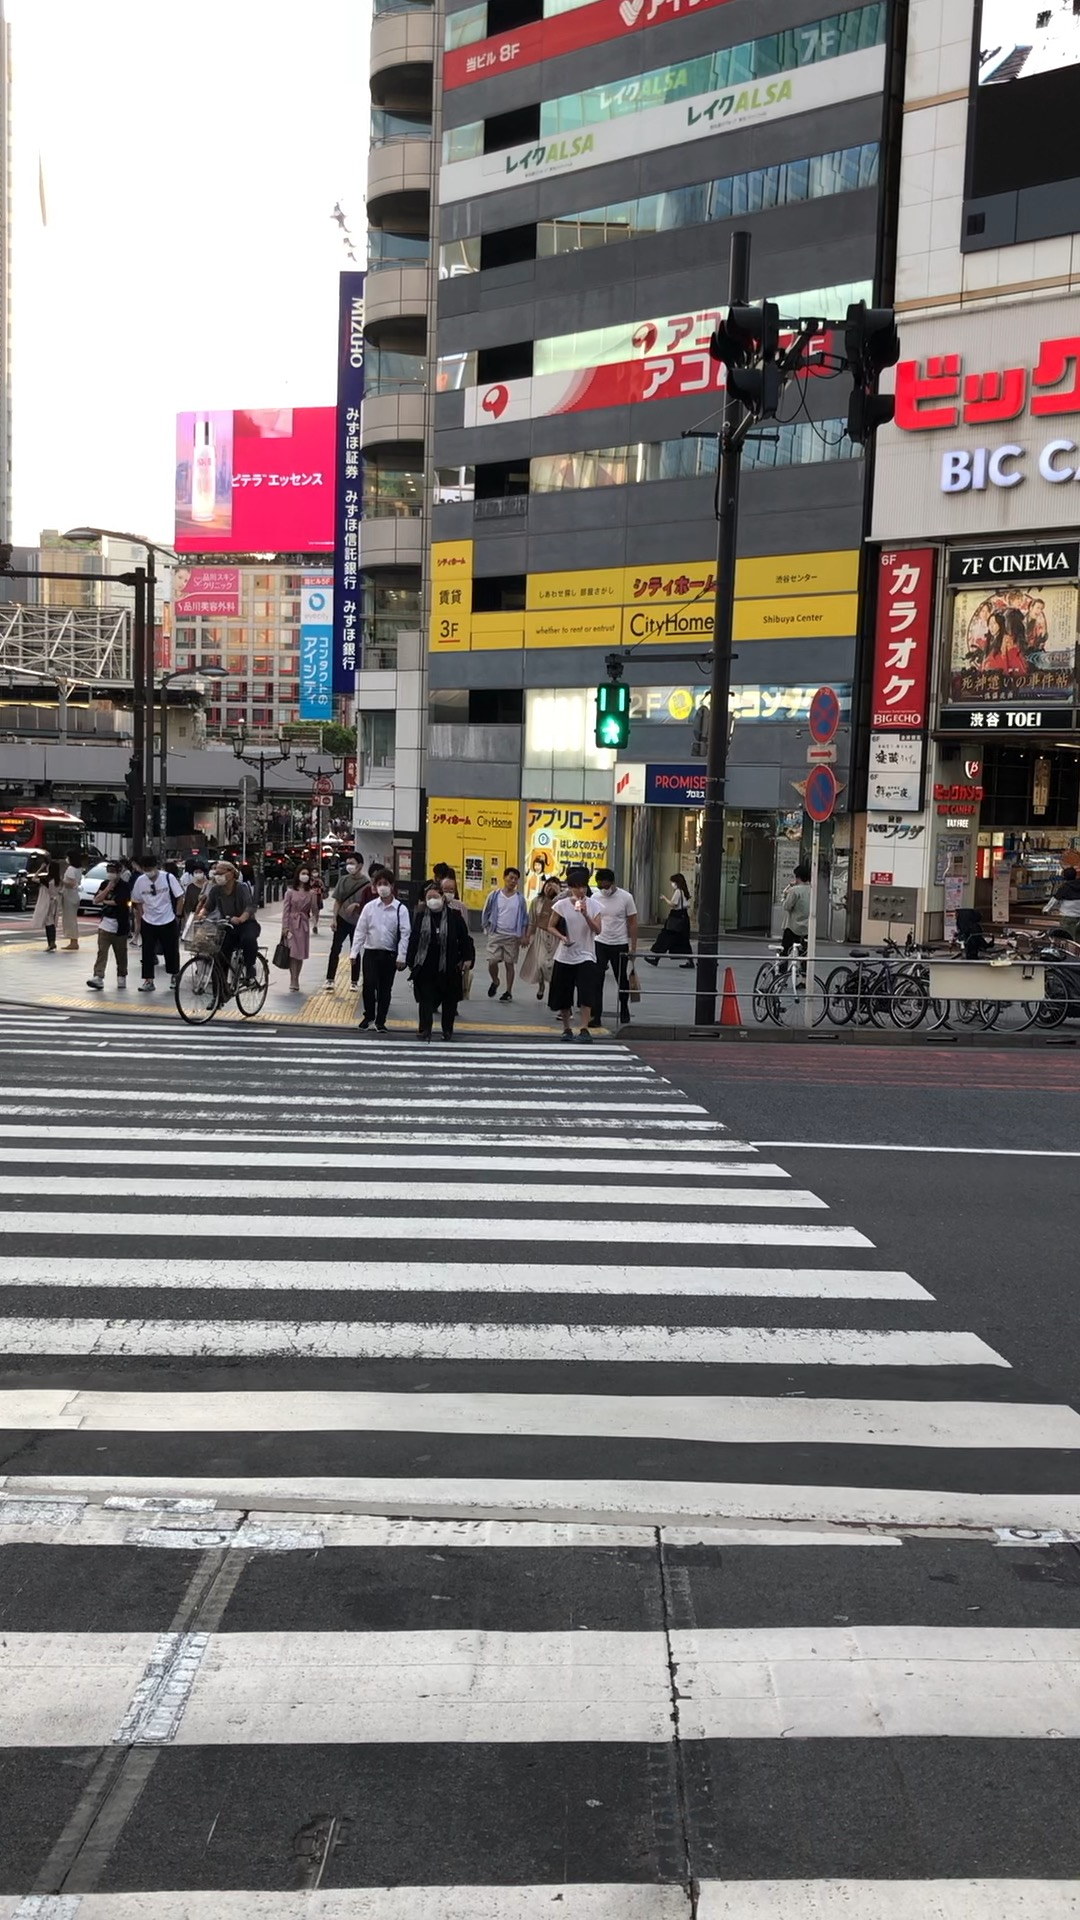green: (595, 682, 630, 750)
